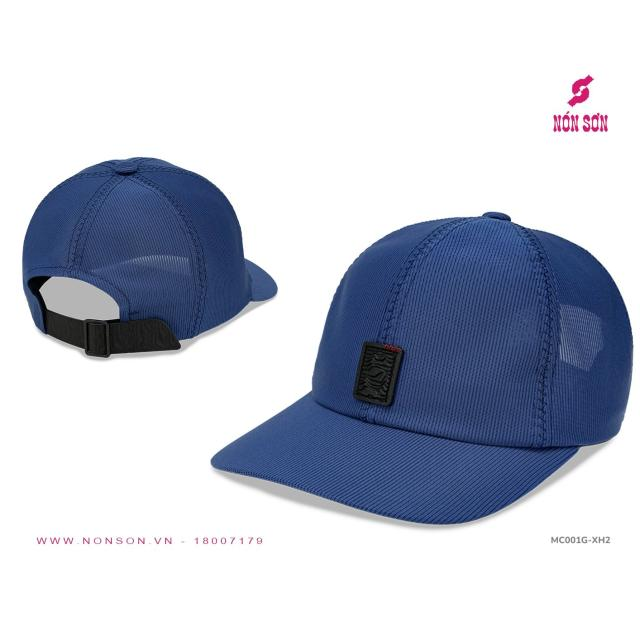no_helmet: (204, 209, 638, 532), (16, 147, 282, 363)
